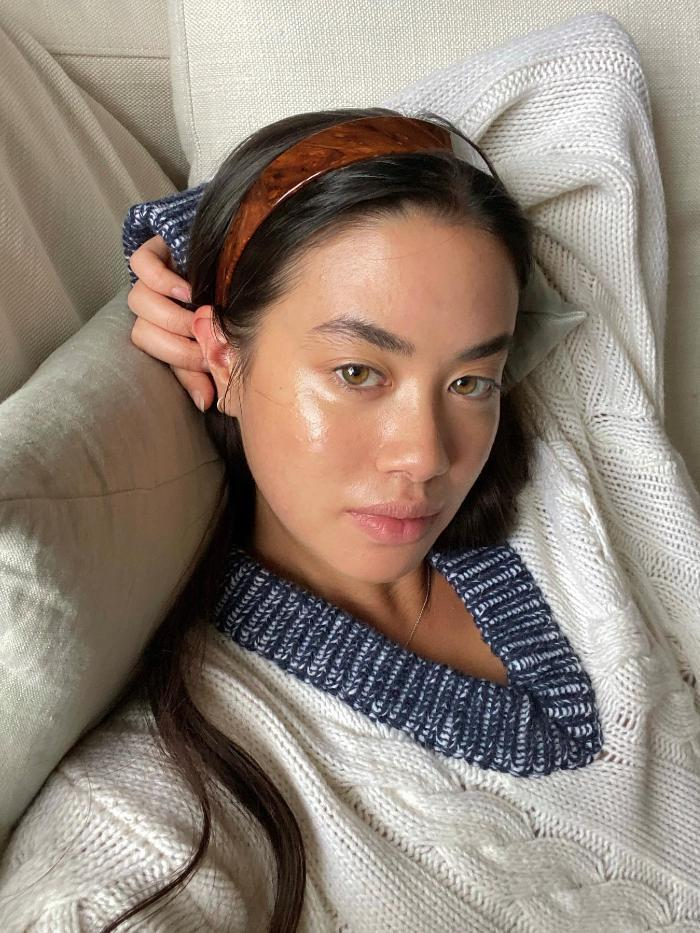Acne: (338, 246, 511, 324)
Oily-Skin: (278, 358, 433, 496)
